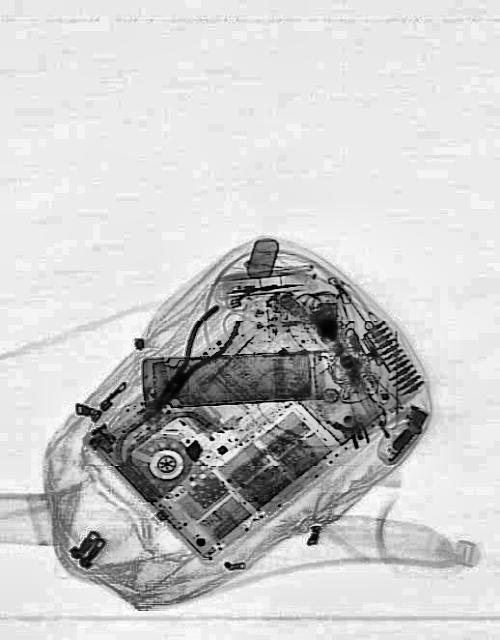Pliers: (139, 298, 243, 427)
